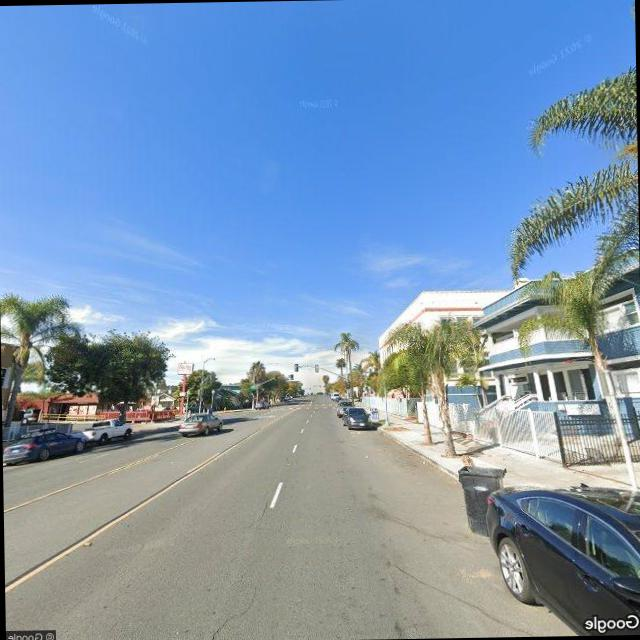crack: (178, 576, 262, 640)
